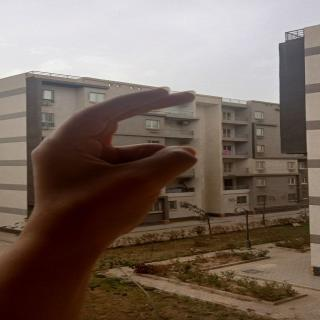ZAY: (26, 75, 224, 219)
